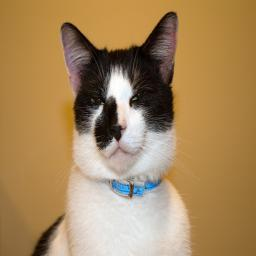catnose: (108, 122, 126, 142)
